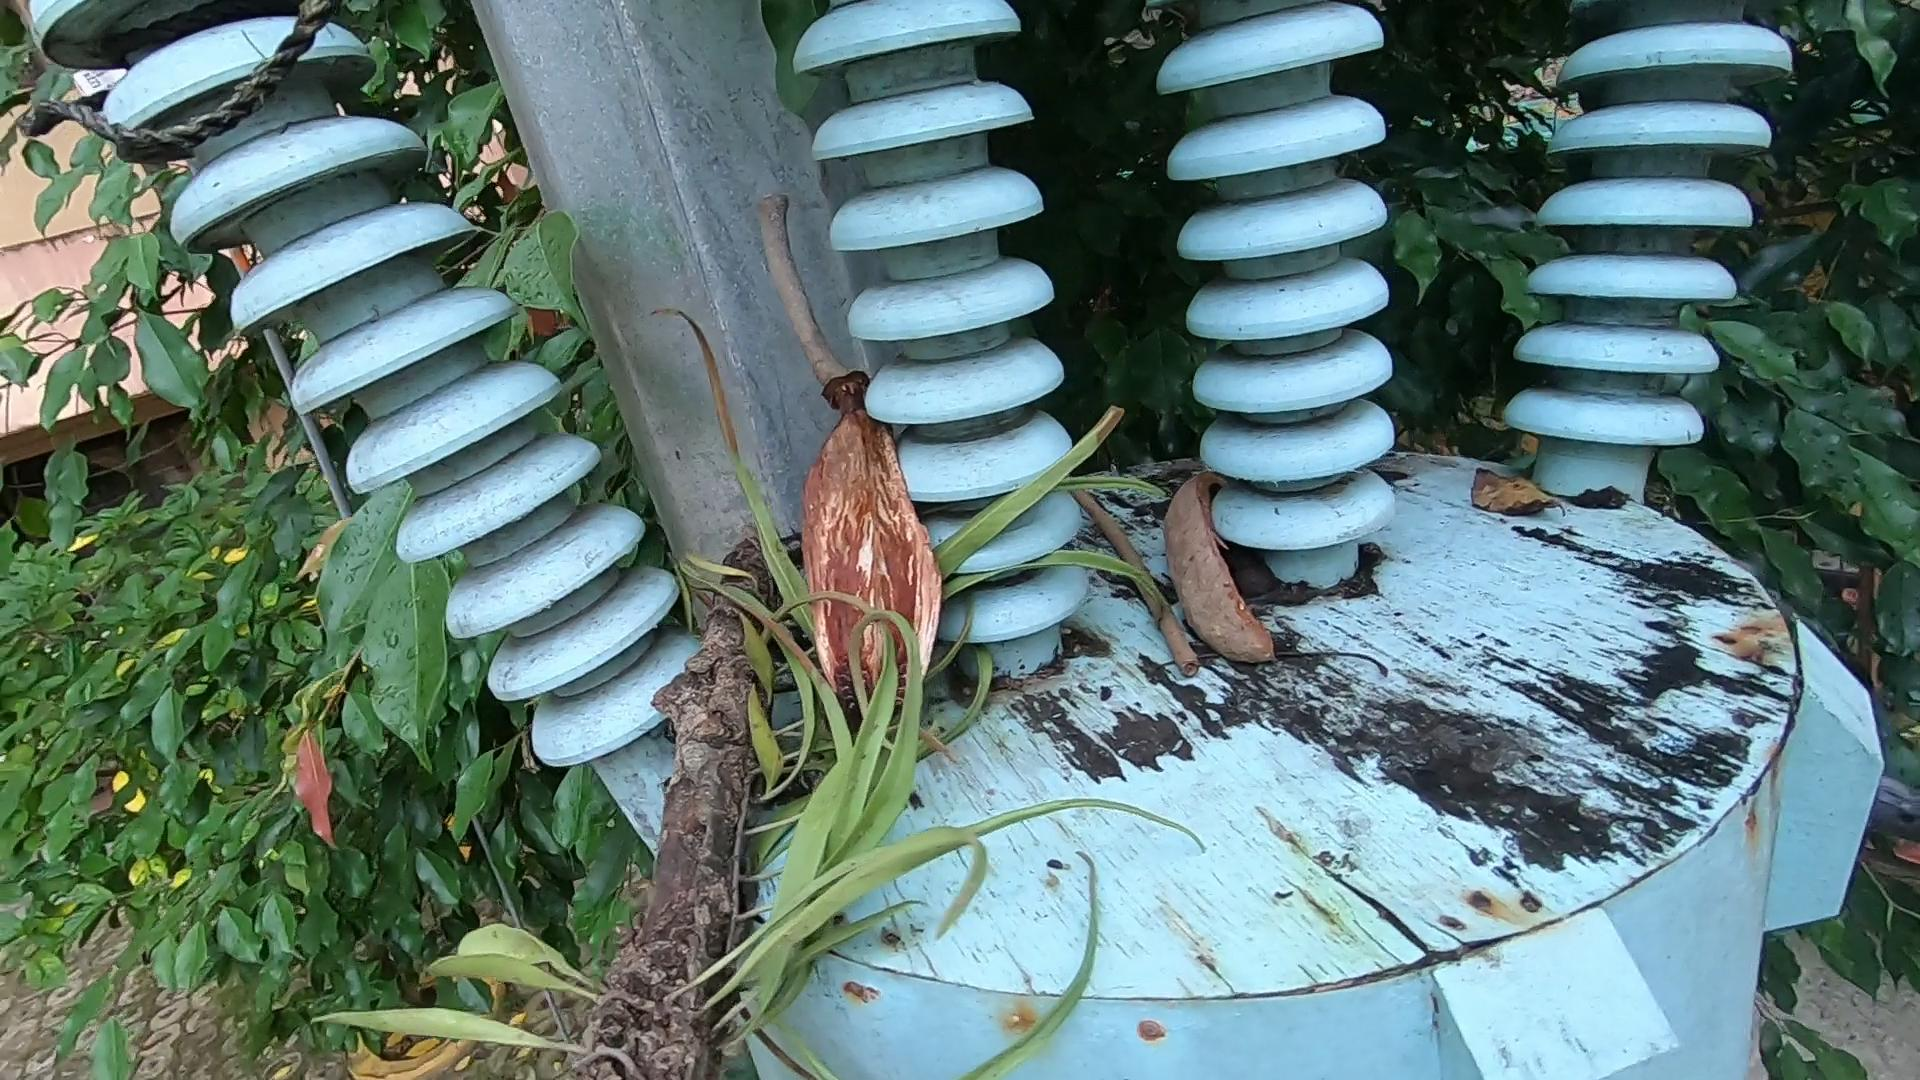branch with leaves: (477, 488, 1168, 1077)
leaf: (1458, 455, 1535, 530)
mahogany fruit: (764, 392, 1018, 655), (1151, 469, 1280, 692)
tree branch: (1065, 473, 1244, 705), (729, 182, 856, 396)
